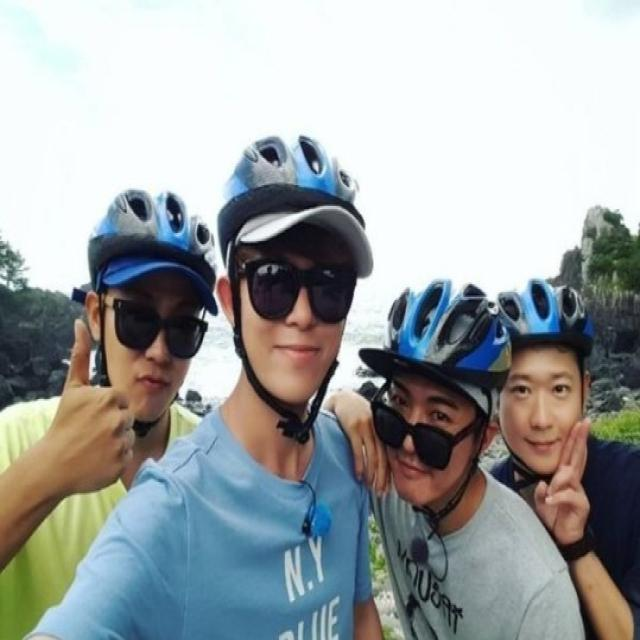helmet: (218, 126, 370, 448), (374, 280, 512, 526), (88, 184, 220, 434), (498, 274, 598, 484)
